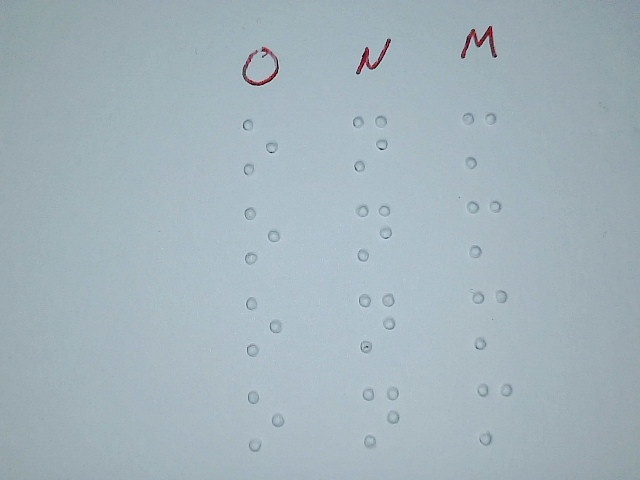M: (471, 288, 510, 351), (476, 382, 515, 445), (459, 110, 499, 170), (464, 199, 504, 259)
N: (357, 291, 397, 355), (361, 385, 401, 449), (350, 114, 390, 174), (354, 202, 394, 262)
O: (246, 388, 285, 452), (241, 117, 281, 177), (242, 205, 282, 265), (243, 296, 283, 356)
